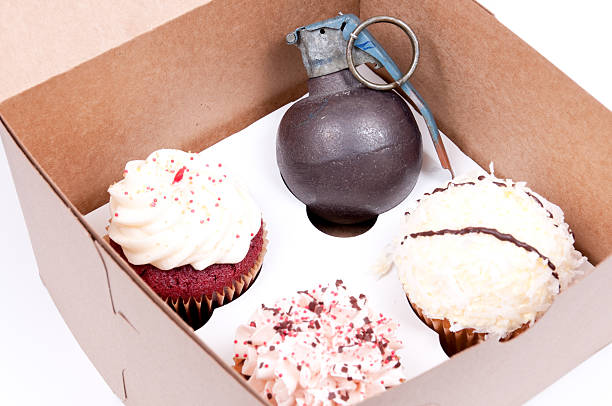e1: (280, 12, 457, 215)
